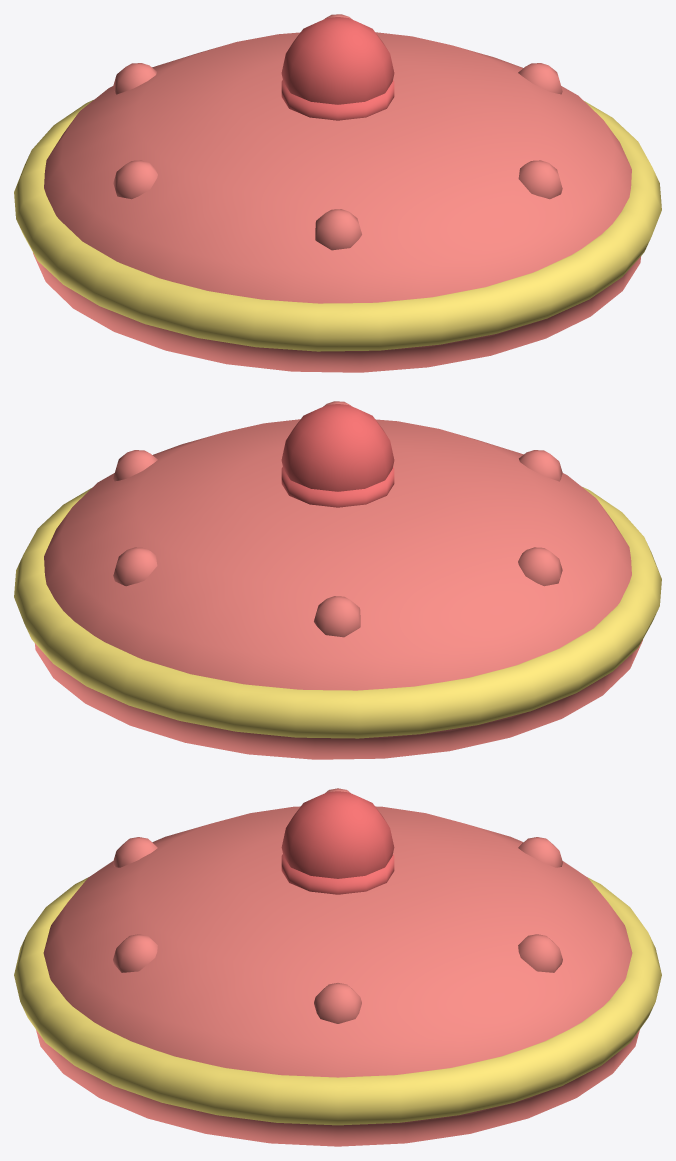
File: TanksMine.glb
3 renders of one model, top to bottom at view 1: azimuth 30°, elevation 25°; view 2: azimuth 150°, elevation 25°; view 3: azimuth 270°, elevation 25°, orthographic.
Parts seen in each view (by area): view 1: Body, Band, Light; view 2: Body, Band, Light; view 3: Body, Band, Light.
Part boxes in pixels (x1,y1,x2,y2): Body: (33, 14, 641, 372); Band: (14, 100, 661, 351); Light: (281, 17, 394, 120); Body: (34, 401, 642, 759); Band: (14, 487, 661, 738); Light: (281, 404, 394, 507); Body: (36, 788, 639, 1146); Band: (14, 877, 661, 1125); Light: (281, 791, 394, 894).
Bounding box in the file's own units: 2.76 × 1.04 × 2.76.
